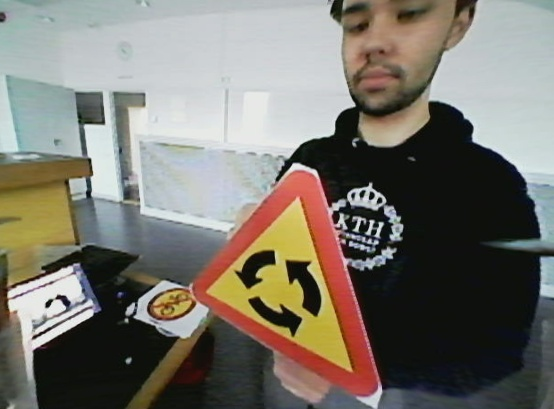roundabout_warning: (189, 164, 399, 401)
